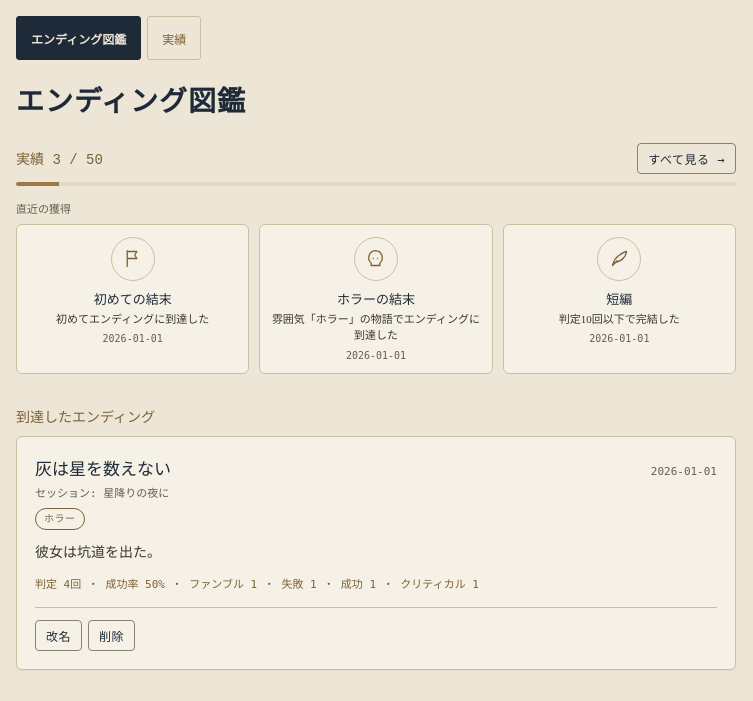
Scenario: EndingGallery › renames an ending
Click the button "改名" at (58, 635), box [35,620,82,651]
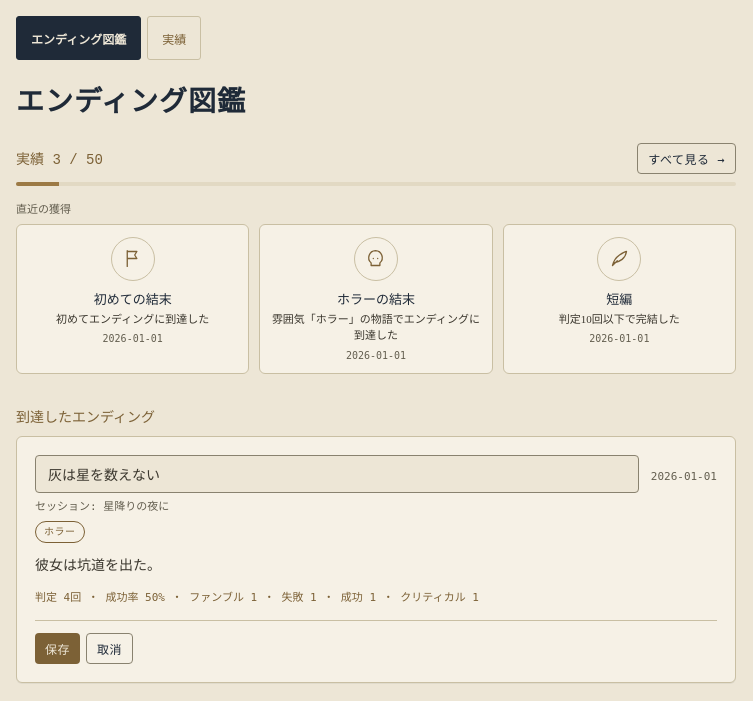
Replace the text in the field showing "灰は星を数えない" with "新しい題" at (337, 474), box [35,455,639,493]
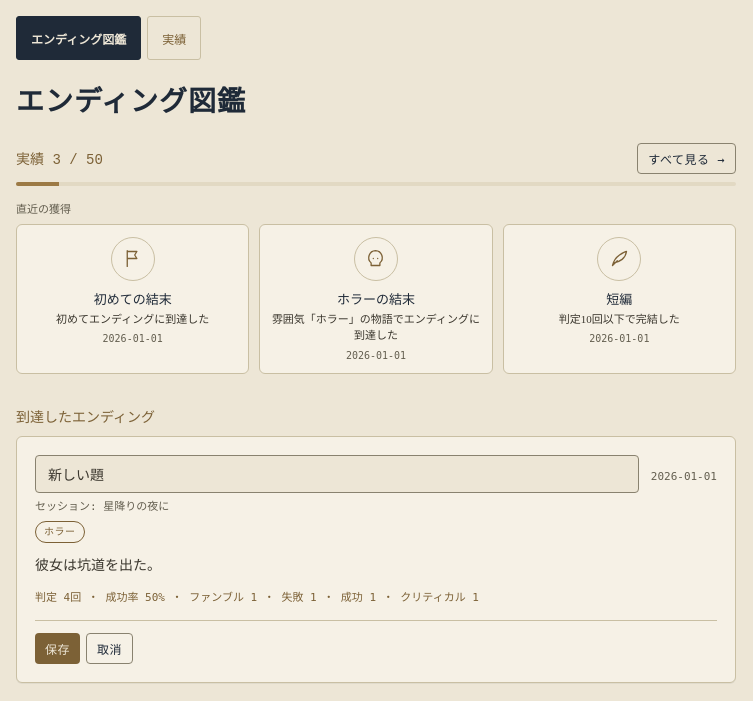
Click the button "保存" at (58, 648), box [35,633,80,664]
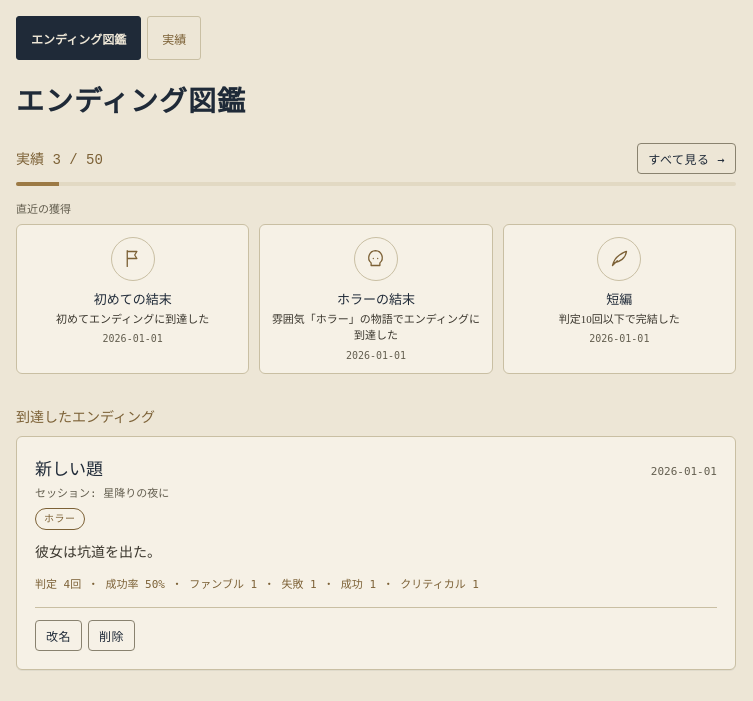
Check: the text "新しい題" is shown, box [35,455,103,480]
